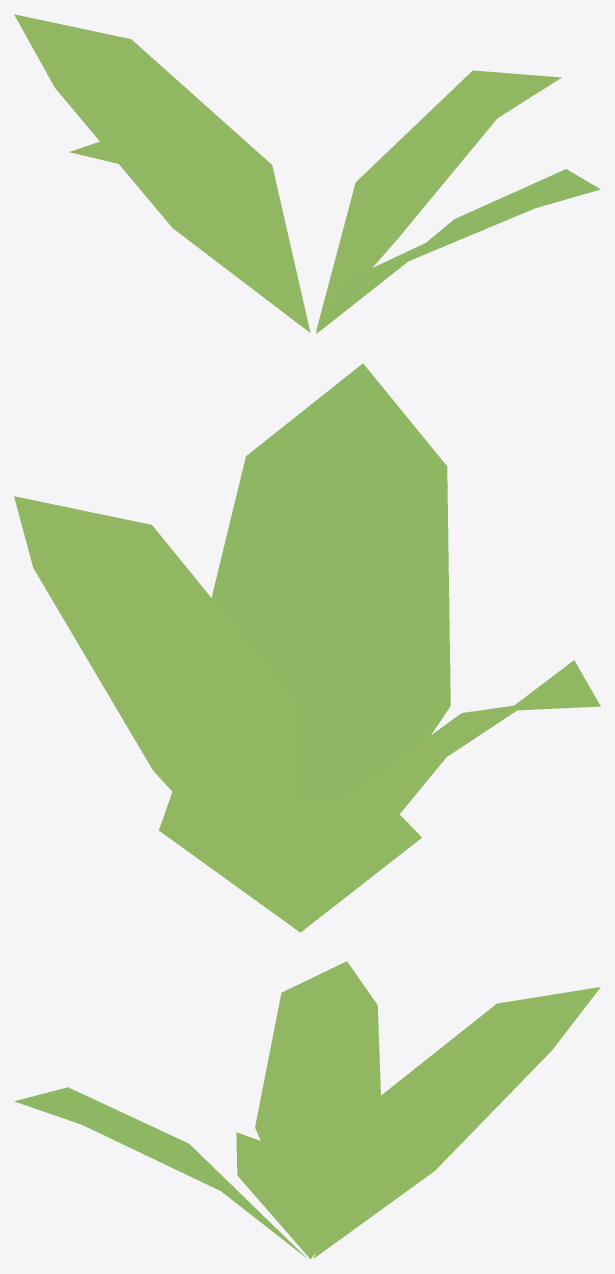
The model's file is Plant_k_OneS_03.fbx.
The picture shows the model from 3 angles, top to bottom: view 1: azimuth 30°, elevation 25°; view 2: azimuth 150°, elevation 25°; view 3: azimuth 270°, elevation 25°; orthographic projection. The views are drawn at different scales.
Parts seen in each view (by area): view 1: Plant_k_OneS_03; view 2: Plant_k_OneS_03; view 3: Plant_k_OneS_03.
Boxes of the visible parts, left/top/right/bottom form: Plant_k_OneS_03: left=14, top=14, right=600, bottom=333; Plant_k_OneS_03: left=14, top=363, right=600, bottom=932; Plant_k_OneS_03: left=14, top=961, right=600, bottom=1259.
Size of the model in its own units: 0.2899 by 0.1461 by 0.367.
